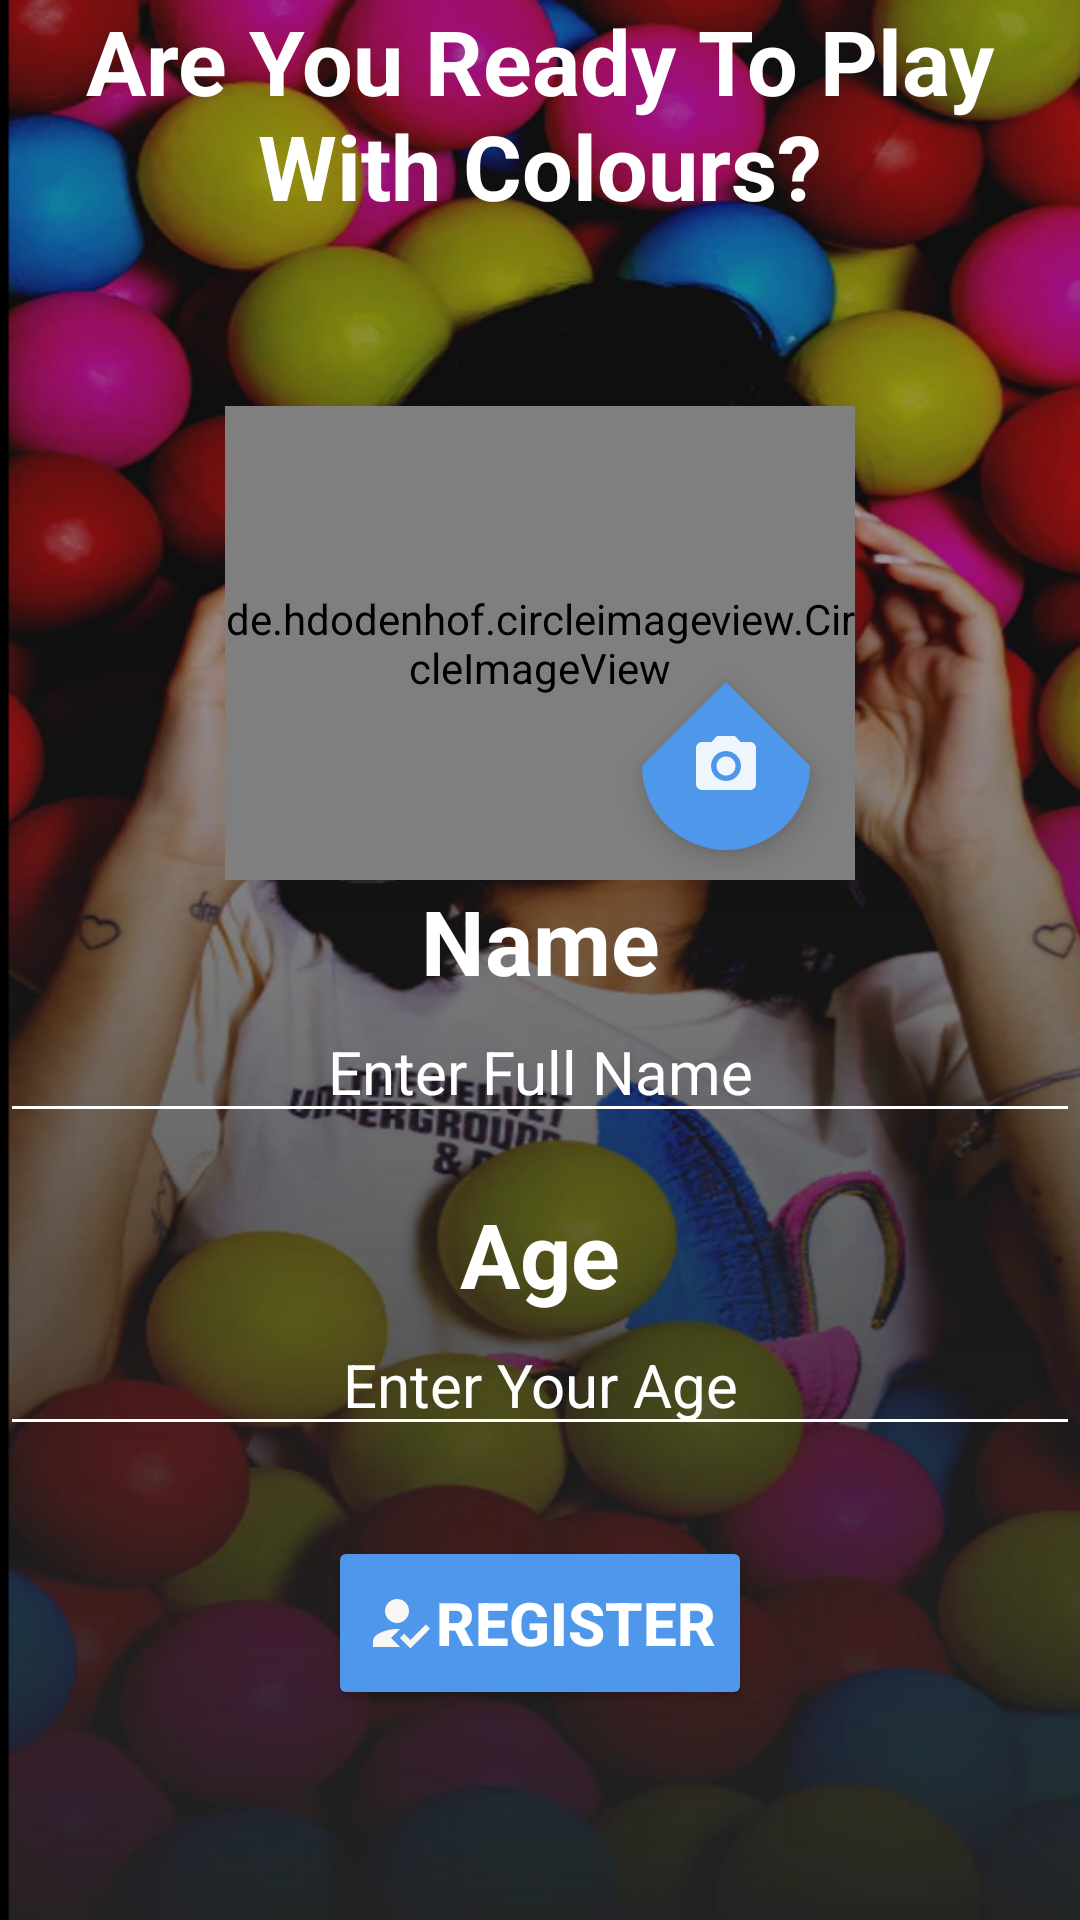

Screen size 1080×1920. Icon name, then its box in pixels as (x1, y1, x2, y2):
photo camera: (642, 682, 810, 850)
